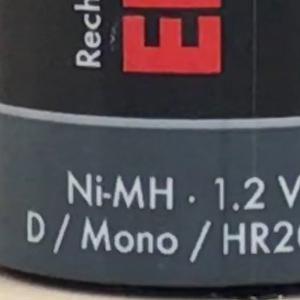keyword: (59, 167, 182, 215)
